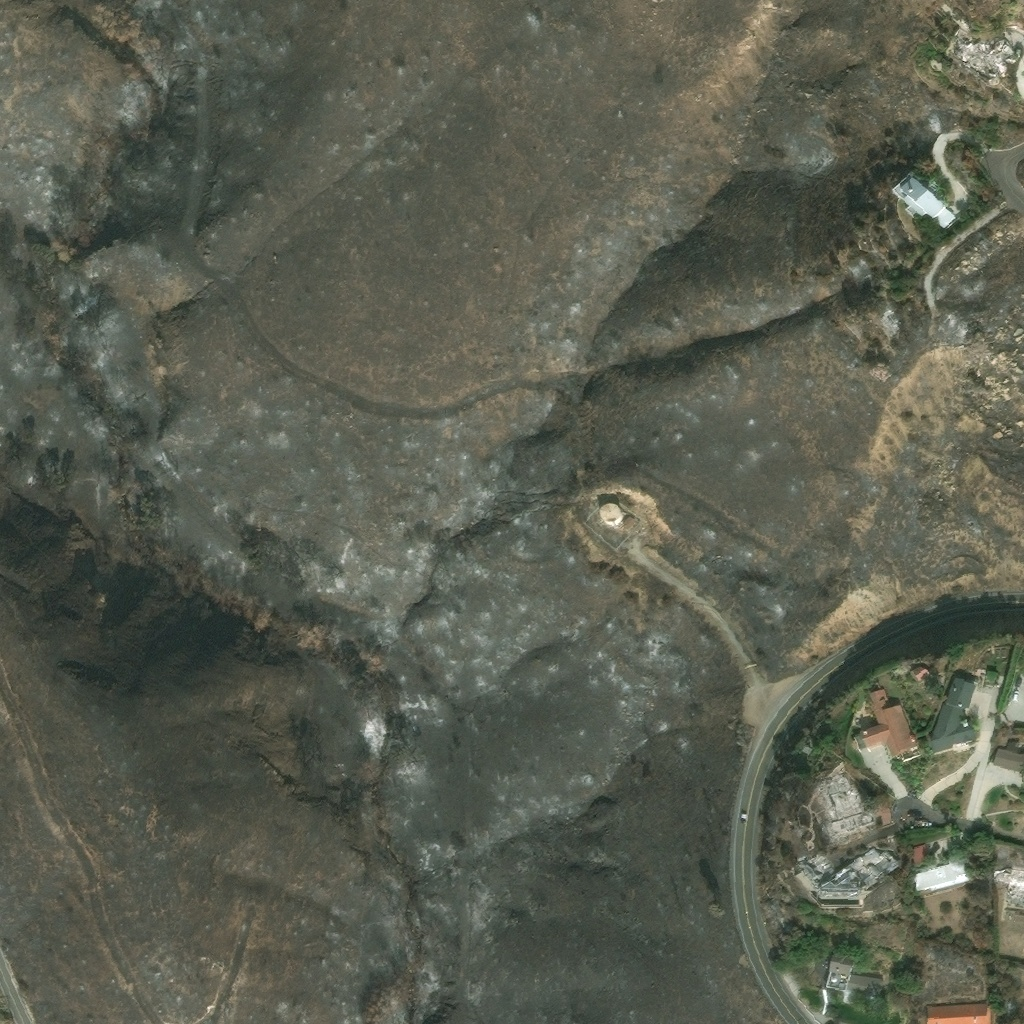0 no-damage: (859, 687, 920, 758), (890, 171, 959, 232), (929, 673, 977, 754), (824, 950, 886, 1006), (912, 859, 971, 895), (926, 1003, 989, 1023), (991, 745, 1023, 775), (598, 502, 620, 522), (910, 844, 926, 868), (910, 663, 930, 682), (621, 516, 635, 530)
3 destroyed: (793, 847, 899, 909), (812, 772, 878, 845), (944, 23, 1017, 83), (993, 868, 1023, 908), (875, 803, 892, 826)
